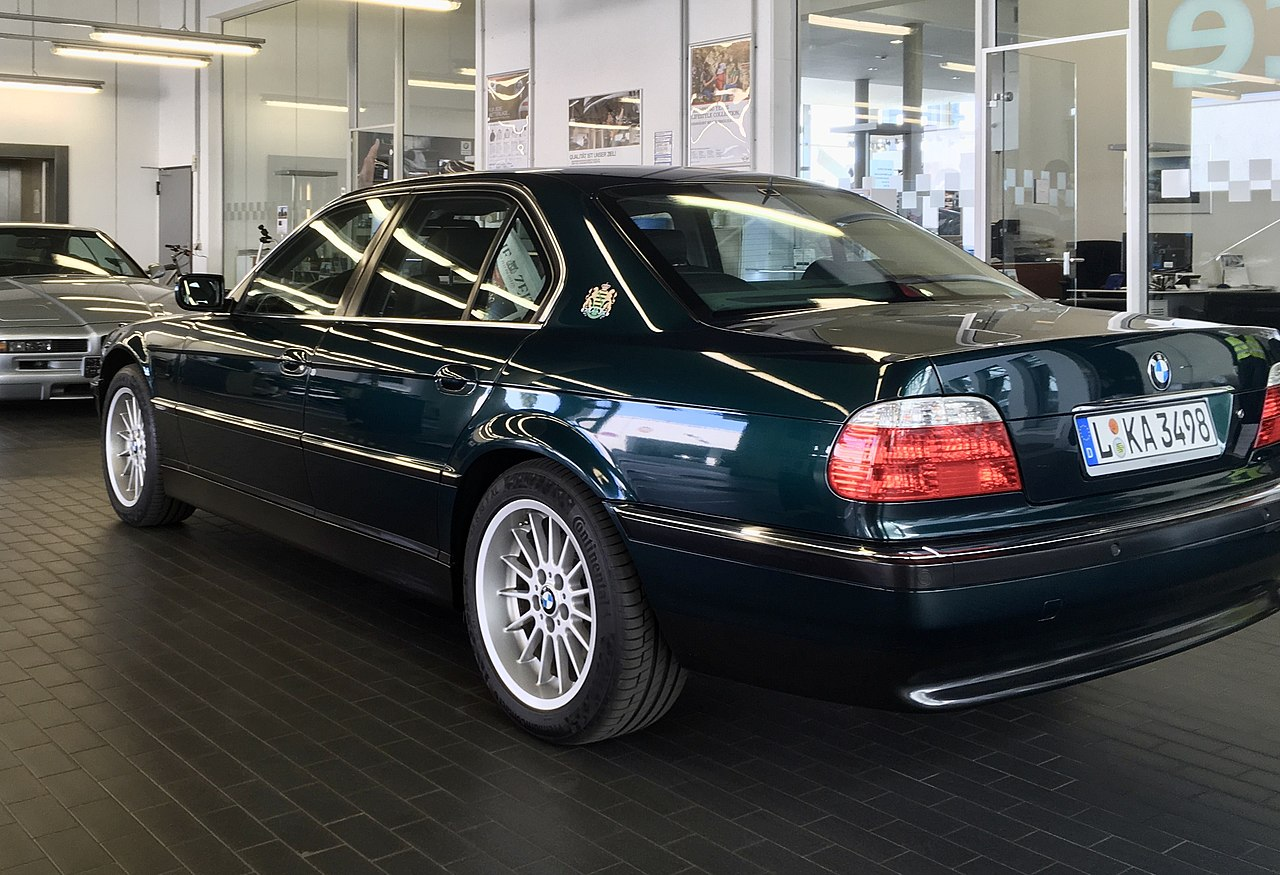plate: (1073, 398, 1222, 477)
